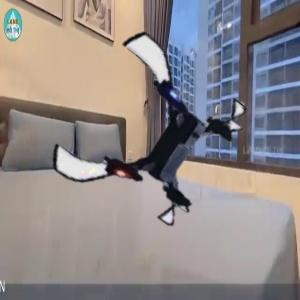drone: (63, 51, 234, 222)
